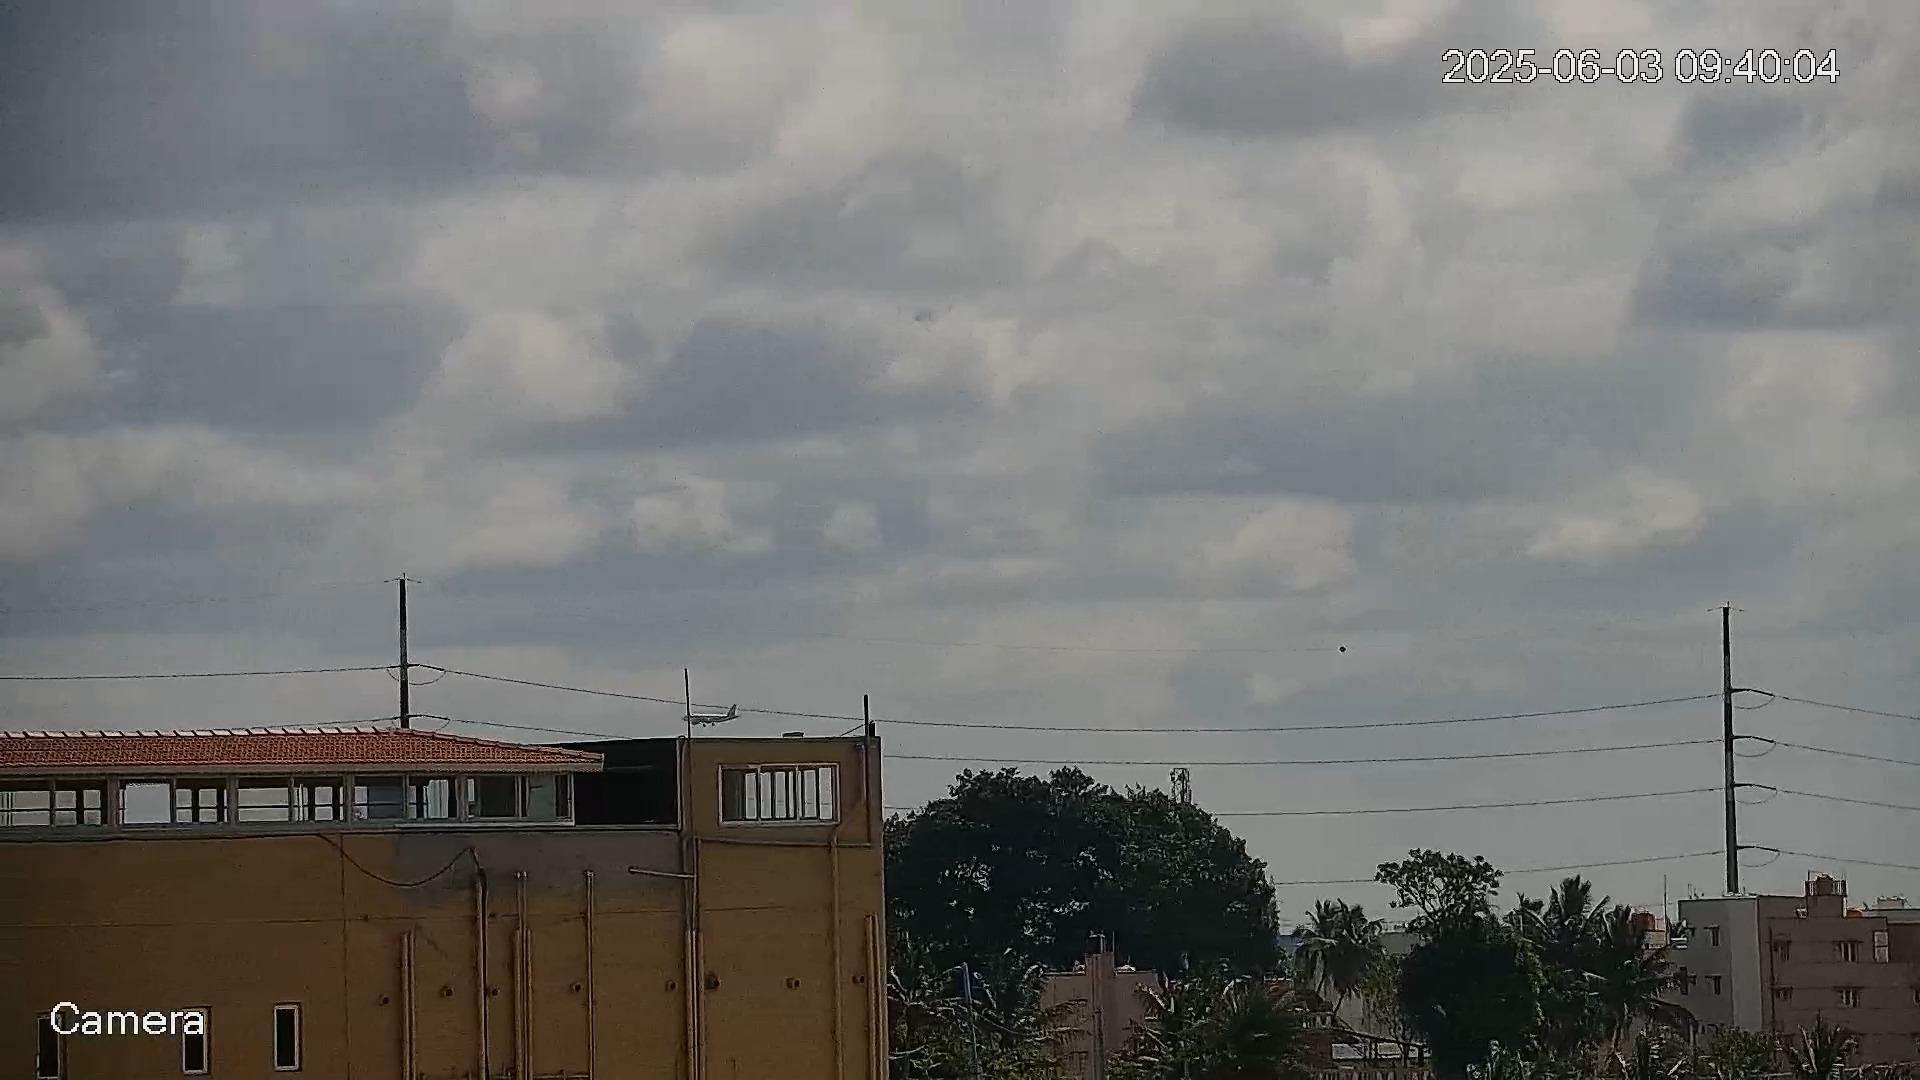Aircraft: (683, 704, 740, 729)
